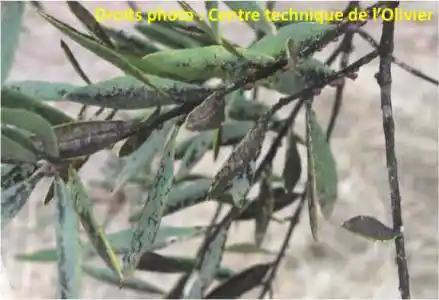BlackScale: (126, 136, 172, 271), (200, 111, 272, 197), (48, 122, 126, 158), (180, 76, 228, 132)
